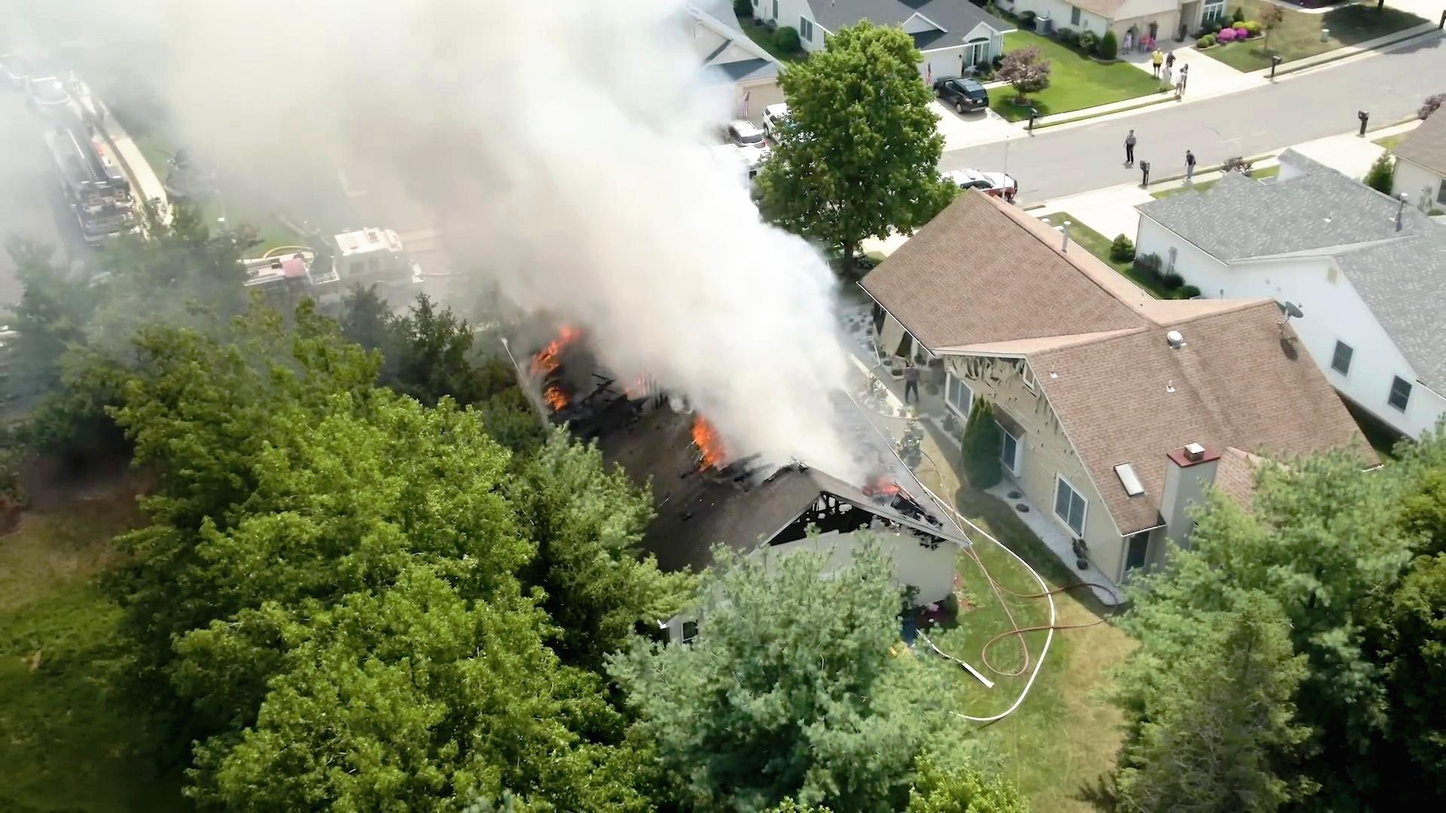smoke: (447, 0, 725, 333), (186, 2, 509, 228), (590, 187, 823, 422)
